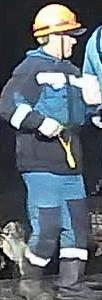helmet: (31, 3, 82, 37)
vest: (2, 50, 84, 182)
